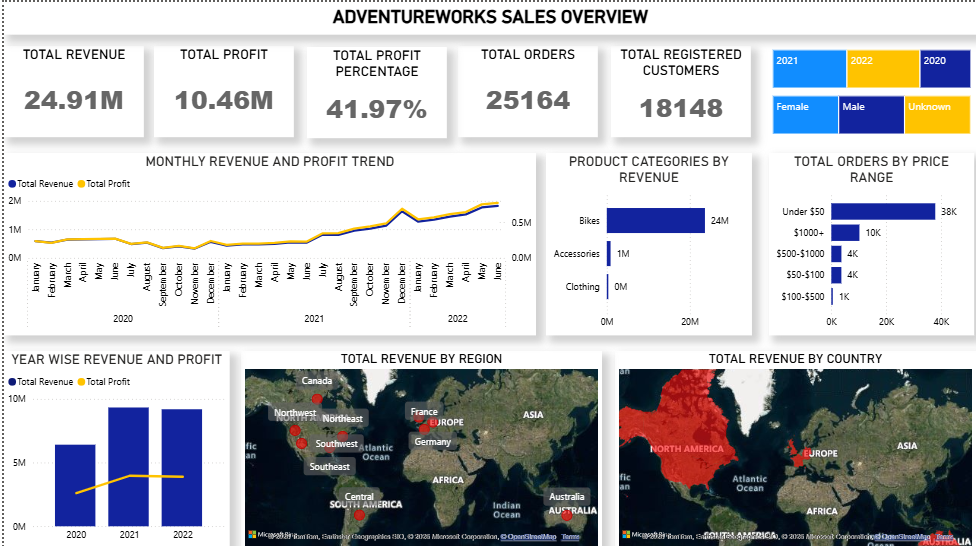

What the dashboard file says about the page in this screenshot:
{"tool":"powerbi","page":{"name":"SALES OVERVIEW","canvas":[1280,720],"ordinal":0},"visuals":[{"type":"card","title":"TOTAL REVENUE","fields":{"Values":["total_sales.Total Revenue"]},"box":[0,57.6,184.3,119.5],"z":0},{"type":"card","title":"TOTAL PROFIT","fields":{"Values":["MeasureHolder.Total Profit"]},"box":[197.3,57.6,184.3,119.5],"z":1000},{"type":"filledMap","title":"TOTAL REVENUE BY COUNTRY","fields":{"Category":["regions.Country"]},"box":[803.5,459.4,475.2,260.6],"z":2000},{"type":"map","title":"TOTAL REVENUE  BY REGION","fields":{"Category":["regions.Region"],"Size":["MeasureHolder.Total Revenue"]},"box":[312.5,459.4,475.2,260.6],"z":3000},{"type":"card","title":"TOTAL ORDERS","fields":{"Values":["MeasureHolder.Total Orders"]},"box":[597.6,57.6,184.3,119.5],"z":4000},{"type":"card","title":"TOTAL REGISTERED CUSTOMERS","fields":{"Values":["MeasureHolder.Total Customers"]},"box":[799.2,57.6,184.3,119.5],"z":5000},{"type":"lineChart","title":"MONTHLY REVENUE AND PROFIT TREND","fields":{"Y":["MeasureHolder.Total Revenue"],"Y2":["MeasureHolder.Total Profit"],"Category":["calendar.Date.Variation.Date Hierarchy.Year","calendar.Date.Variation.Date Hierarchy.Month"]},"box":[0,198.2,700,240],"z":6000},{"type":"lineStackedColumnComboChart","title":"YEAR WISE REVENUE AND PROFIT","fields":{"Category":["calendar.Date.Variation.Date Hierarchy.Year"],"Y":["MeasureHolder.Total Revenue"],"Y2":["MeasureHolder.Total Profit"]},"box":[0,459.4,296.6,260.6],"z":7000},{"type":"treemap","fields":{"Group":["calendar.Year"],"Values":["MeasureHolder.Total Revenue"]},"box":[1006.6,57.6,270.7,60.5],"z":8000},{"type":"barChart","title":"TOTAL ORDERS BY PRICE RANGE ","fields":{"Y":["CountNonNull(total_sales.OrderNumber)"],"Category":["products.PriceRange"]},"box":[1006.6,198.7,270,240.5],"z":9000},{"type":"textbox","box":[0,0,1280.2,43.2],"z":10000},{"type":"treemap","fields":{"Group":["customers.Gender"],"Values":["MeasureHolder.EqualValue"]},"box":[1006.6,118.1,270,60.5],"z":11000},{"type":"barChart","title":"PRODUCT CATEGORIES BY REVENUE","fields":{"Y":["MeasureHolder.Total Revenue"],"Category":["product_categories.CategoryName"]},"box":[712.8,198.7,270.7,240.5],"z":12000},{"type":"card","title":"TOTAL PROFIT PERCENTAGE","fields":{"Values":["MeasureHolder.Profit %"]},"box":[398.9,59,184.3,119.5],"z":13000}]}

Visuals, with their boxes in screenshot pixels (x1, y1, x2, y2), scaled from the page's 1280x720 canvas onto the 976x546 screenshot:
"TOTAL REVENUE" card: <box>0,44,141,134</box>
"TOTAL PROFIT" card: <box>150,44,291,134</box>
"TOTAL REVENUE BY COUNTRY" filledMap: <box>613,348,975,545</box>
"TOTAL REVENUE  BY REGION" map: <box>238,348,601,545</box>
"TOTAL ORDERS" card: <box>456,44,596,134</box>
"TOTAL REGISTERED CUSTOMERS" card: <box>609,44,750,134</box>
"MONTHLY REVENUE AND PROFIT TREND" lineChart: <box>0,150,534,332</box>
"YEAR WISE REVENUE AND PROFIT" lineStackedColumnComboChart: <box>0,348,226,545</box>
treemap - calendar.Year x MeasureHolder.Total Revenue: <box>768,44,974,90</box>
"TOTAL ORDERS BY PRICE RANGE " barChart: <box>768,151,973,333</box>
textbox: <box>0,0,975,33</box>
treemap - customers.Gender x MeasureHolder.EqualValue: <box>768,90,973,135</box>
"PRODUCT CATEGORIES BY REVENUE" barChart: <box>544,151,750,333</box>
"TOTAL PROFIT PERCENTAGE" card: <box>304,45,445,135</box>
